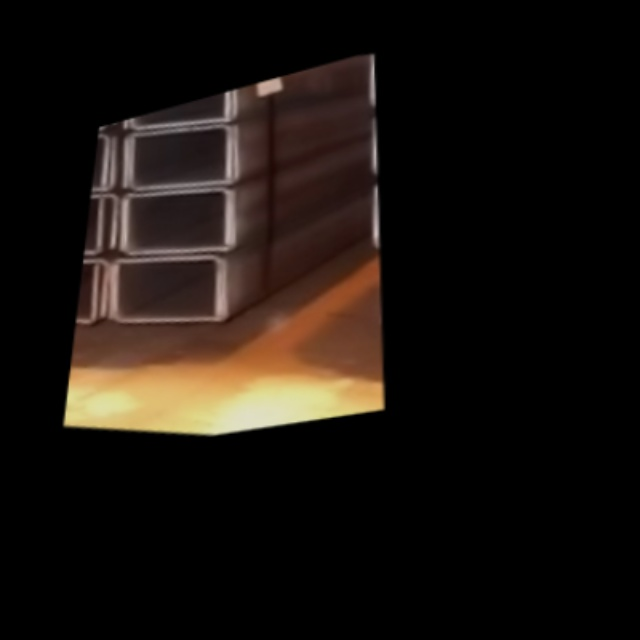Shveller: (110, 238, 233, 344), (105, 234, 225, 340), (115, 165, 233, 271), (120, 170, 239, 275), (127, 105, 244, 211), (119, 104, 234, 208), (125, 89, 237, 148)
